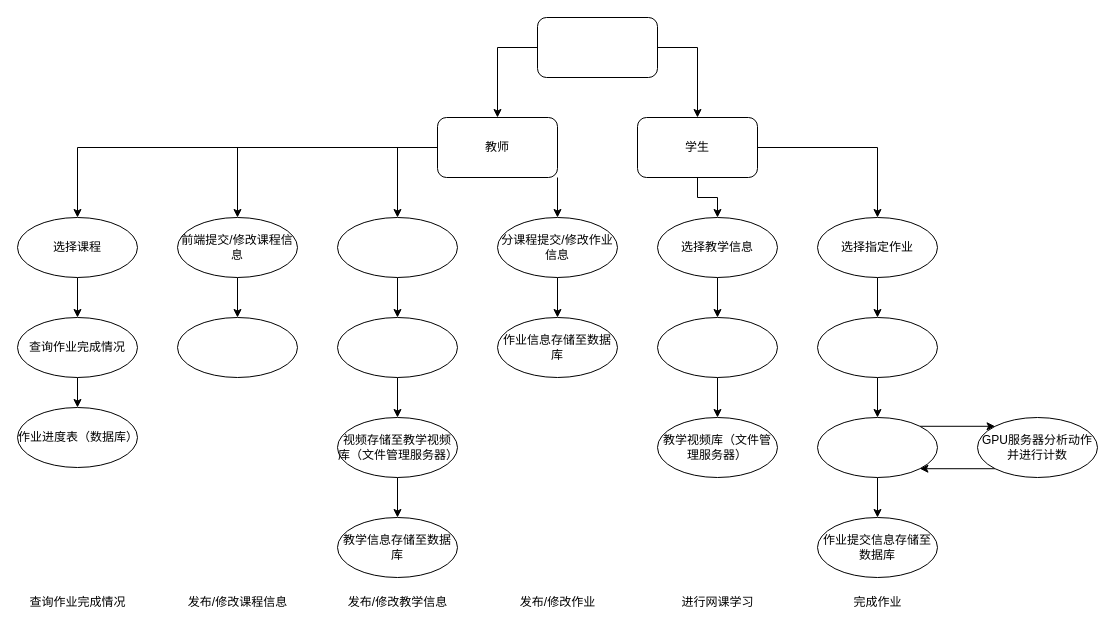
This 1115x635 diagram has some shape labels left out. The shapes that lost their labels are listed below. From the top down, each one's centre as x and y in pixels, then its label:
At point 597,47: "用户".
At point 397,247: "分课程发布教学信息".
At point 237,347: "课程信息存储至数据库".
At point 397,347: "上传教学视频".
At point 717,347: "播放教学视频".
At point 877,347: "上传作业视频".
At point 877,447: "视频存储至作业视频库（文件管理服务器）".
